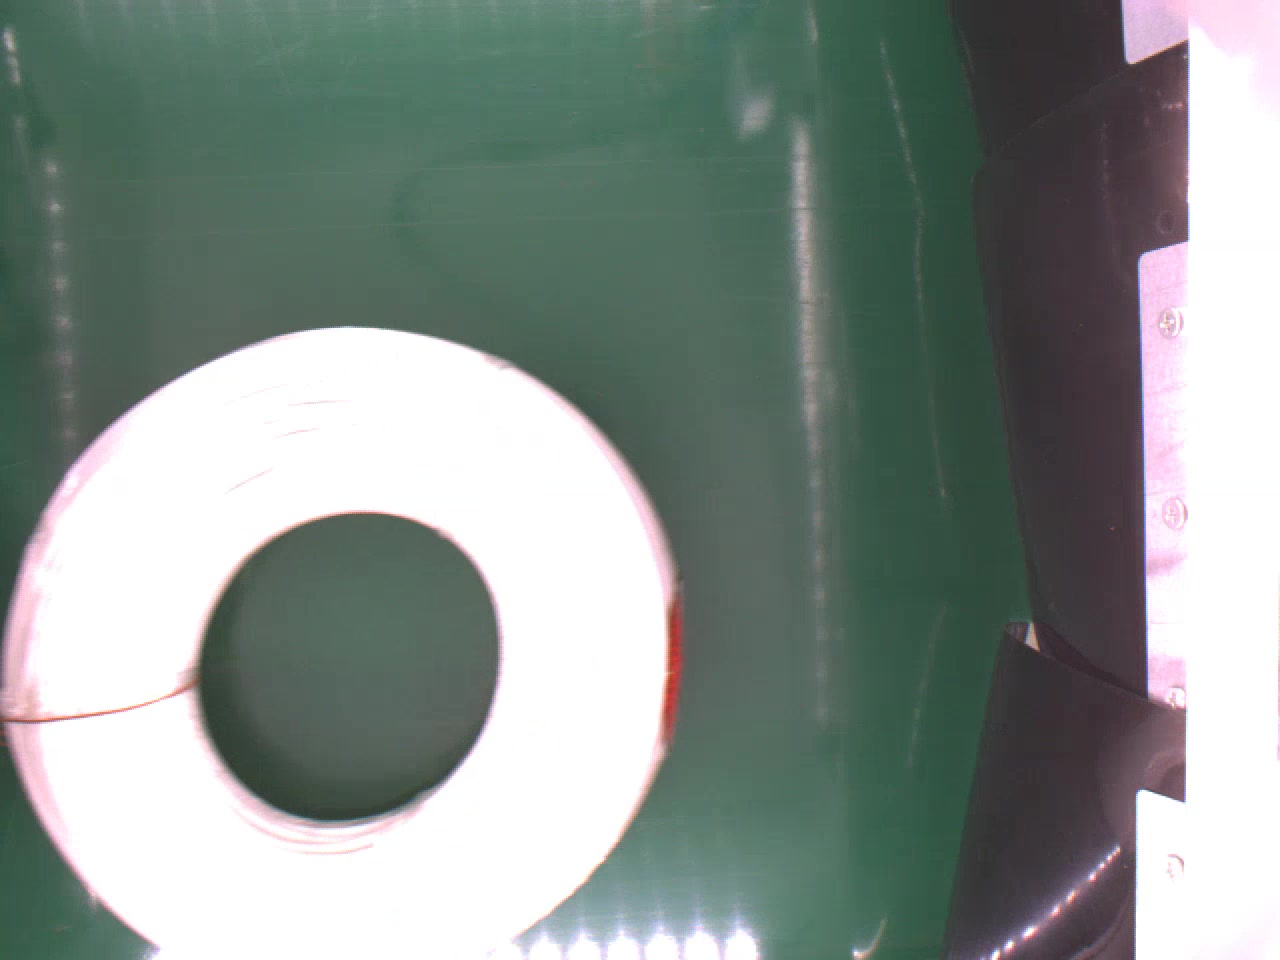white: (4, 326, 679, 960)
